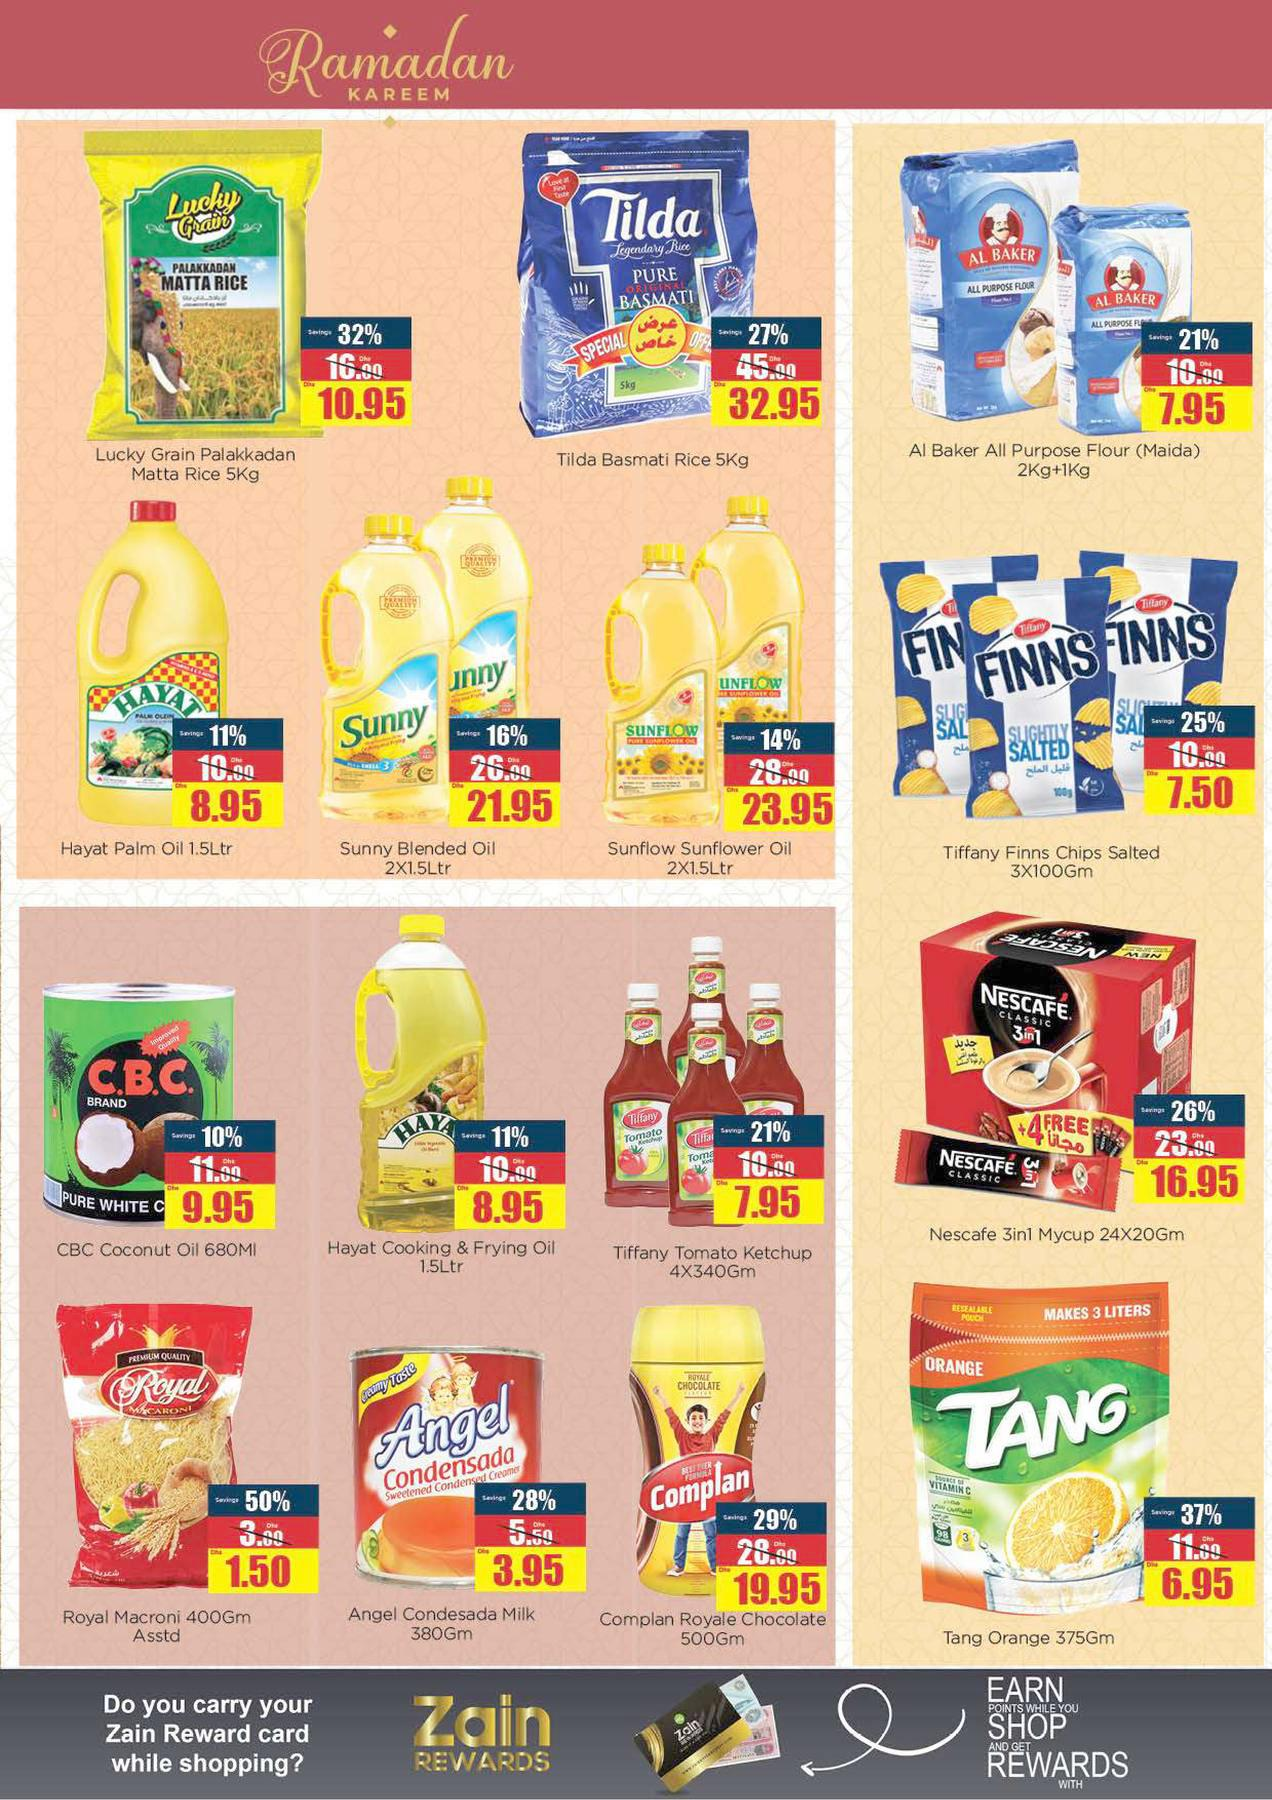text: (900, 433, 1211, 495), (319, 1232, 571, 1285), (936, 834, 1181, 888), (589, 1605, 834, 1656), (918, 1215, 1205, 1256), (604, 1234, 827, 1287), (340, 1598, 552, 1650), (89, 440, 307, 491), (56, 1600, 262, 1651), (597, 833, 811, 881), (52, 1228, 274, 1269), (51, 830, 251, 872), (335, 833, 509, 881), (932, 1618, 1130, 1660), (544, 443, 761, 478)
